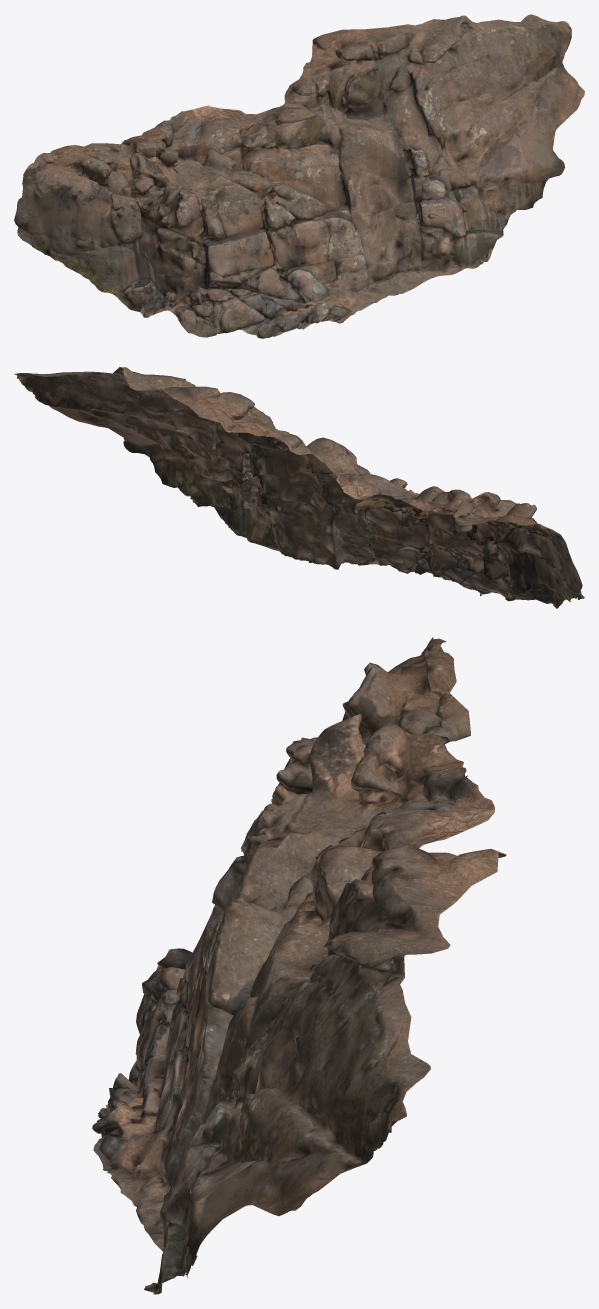
The model's file is namaqualand_cliff_02.glb.
3 renders of one model, top to bottom at view 1: azimuth 30°, elevation 25°; view 2: azimuth 150°, elevation 25°; view 3: azimuth 270°, elevation 25°, orthographic. The views are drawn at different scales.
Visible parts, largest first — view 1: drone_rock_02_LOD0; view 2: drone_rock_02_LOD0; view 3: drone_rock_02_LOD0.
Boxes of the visible parts, x1,y1,x2,y2 form: drone_rock_02_LOD0: (14,14,584,338); drone_rock_02_LOD0: (14,367,584,608); drone_rock_02_LOD0: (92,637,506,1294).
Bounding box in the file's own units: 20.23 × 7.18 × 6.59.
Materials: 1 (1 with a texture image).
